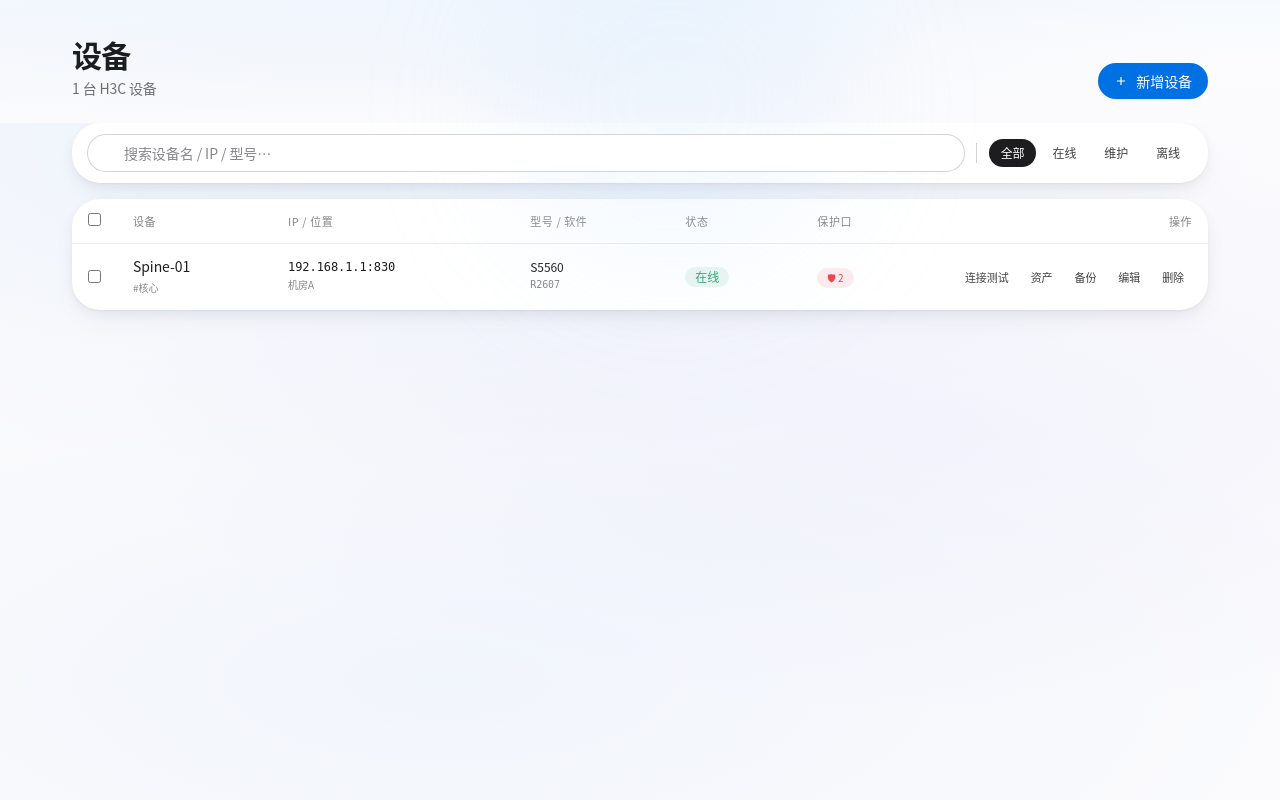
Test: Devices 组件 › case 4: 删除 —— 点击删除按钮，ConfirmModal 打开（含设备名 + host）
Click the button "删除": (1173, 276) [1154, 262, 1192, 290]
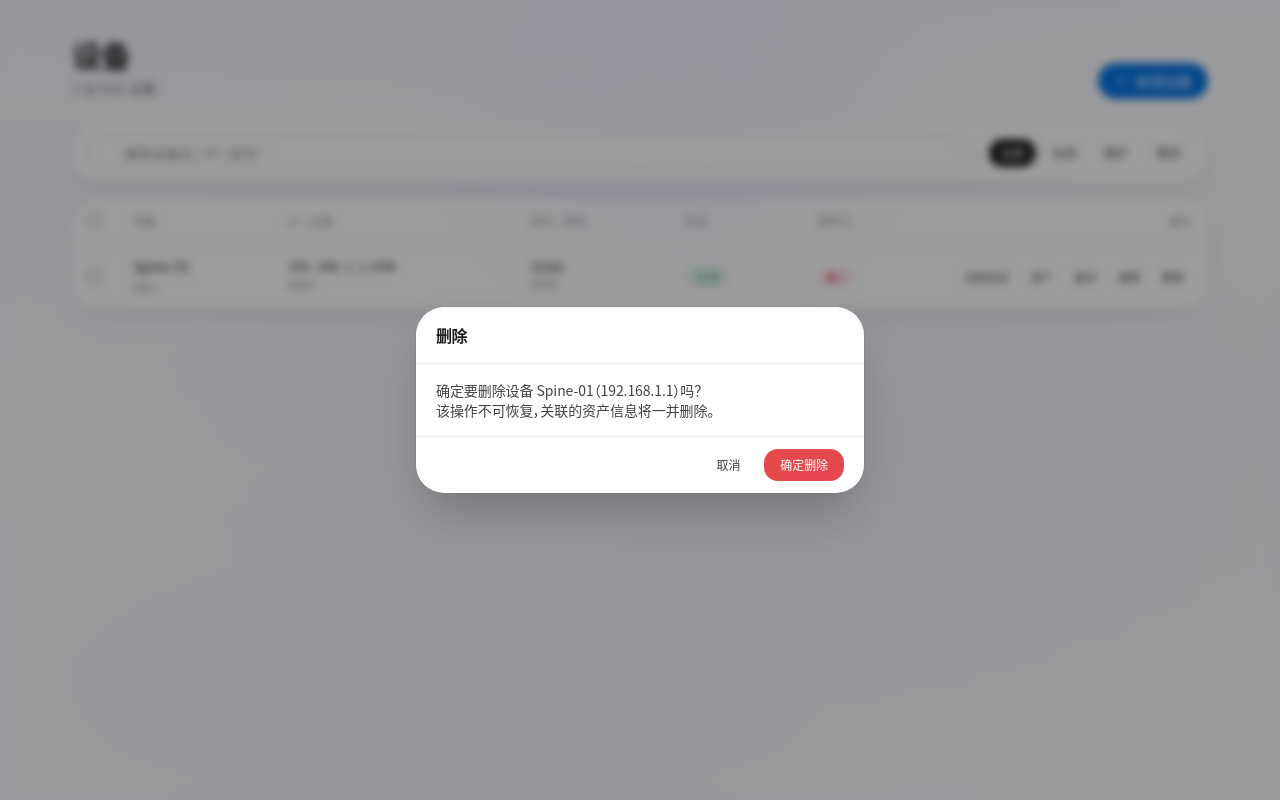
Expected: the text "Spine-01" is shown, [133, 256, 190, 276]
Result: the text "删除设备" is shown at [436, 380, 714, 420]
